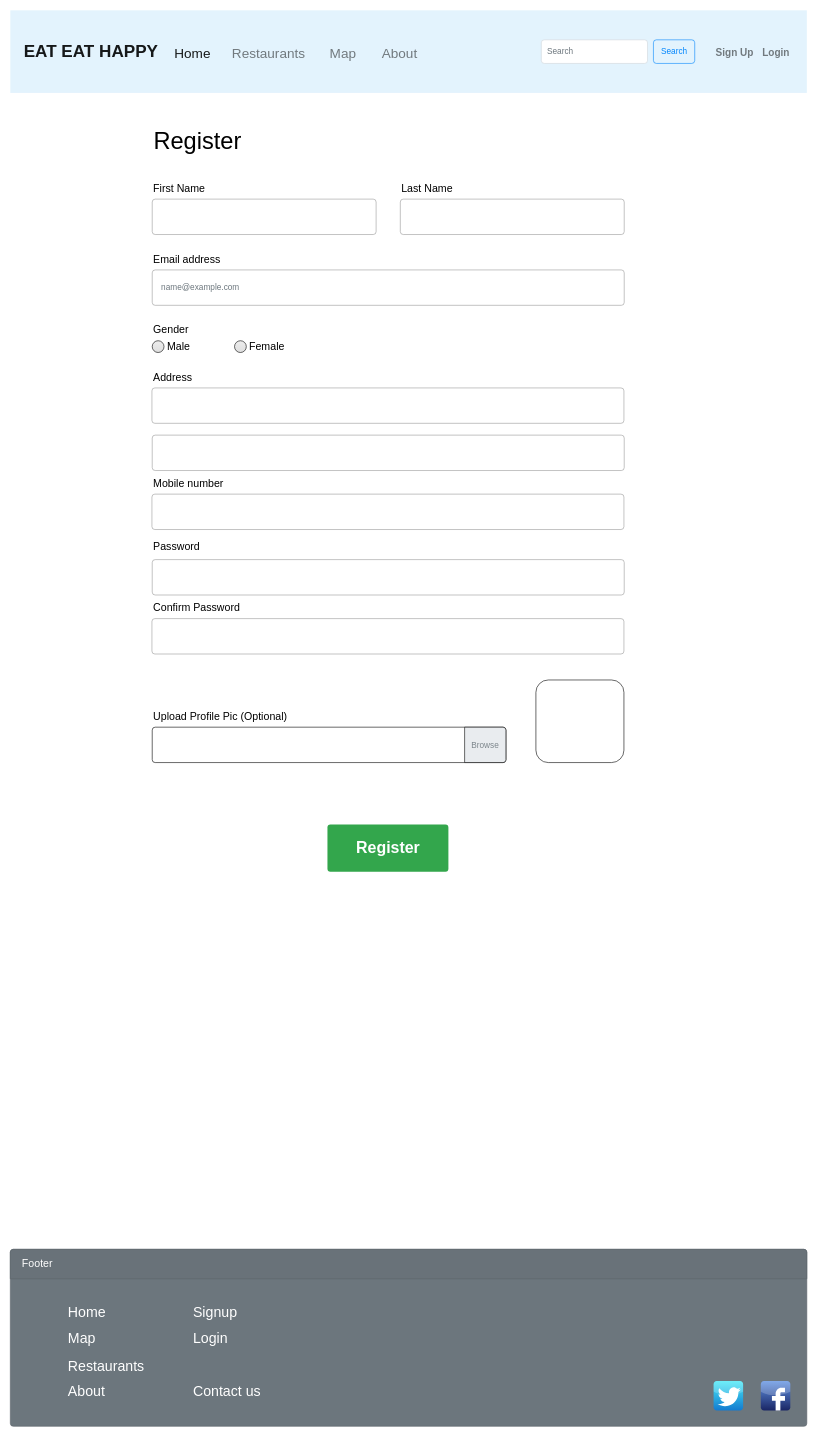
The diagram is 817 pixels wide and 1437 high, and some of its shapes have lost their labels. Each missing label, with the centre of its shape:
Choose file: pixel 329 745
Profile Pic Preview: pixel 579 721
